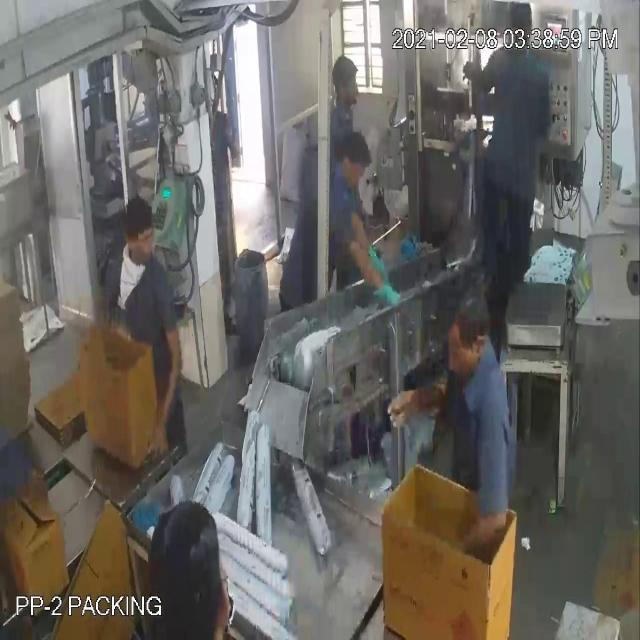No_Gloves: (40, 66, 475, 532)
